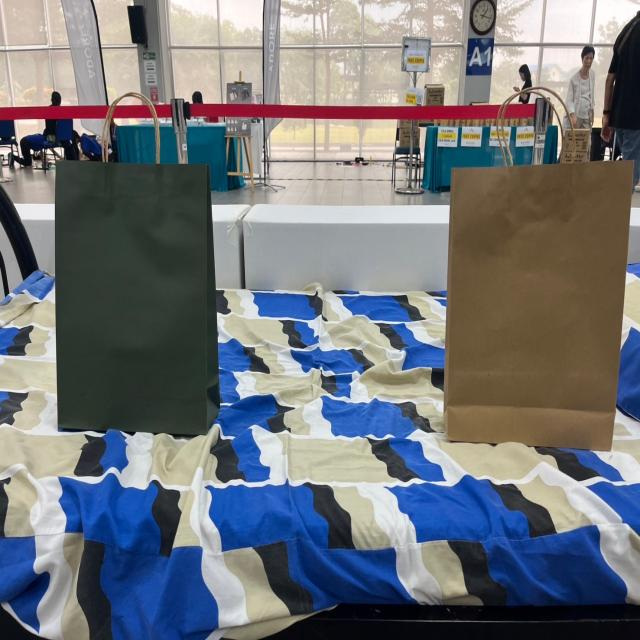bag: (450, 76, 614, 432), (78, 91, 205, 420)
